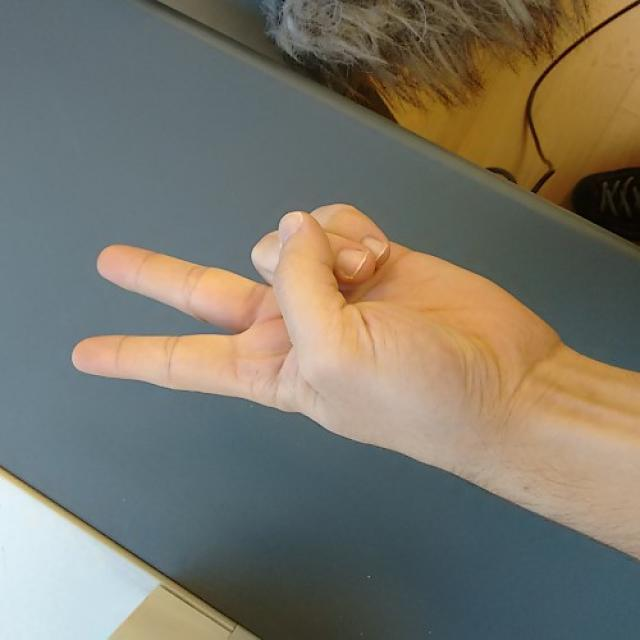scissors: (72, 200, 456, 462)
